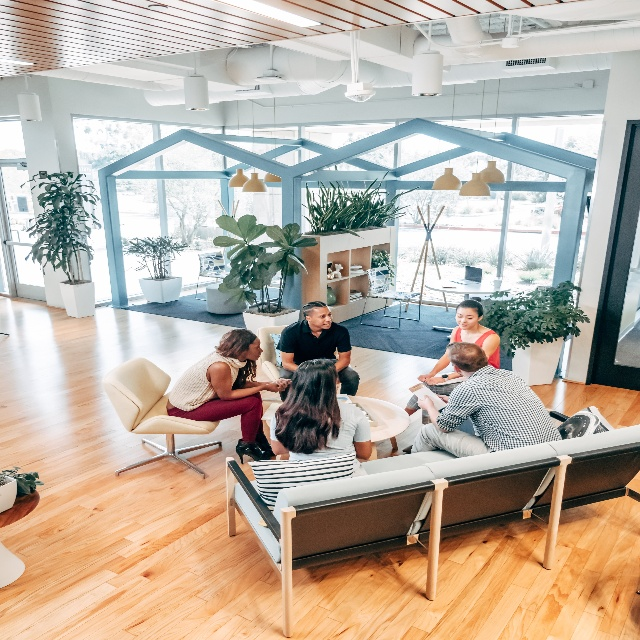Sin_guantes: (417, 394, 434, 411), (266, 382, 285, 393), (273, 378, 292, 388), (423, 376, 444, 385), (434, 392, 449, 404), (417, 374, 429, 383)
